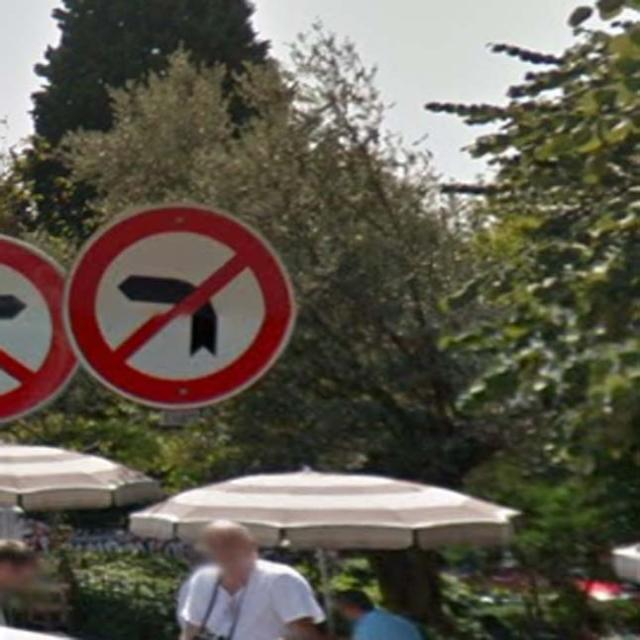soladonulmez: (78, 204, 286, 404)
